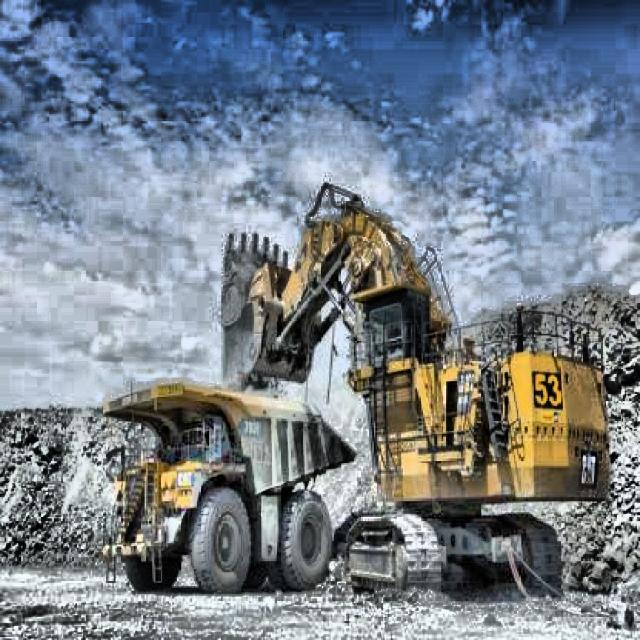dump_truck: (101, 383, 358, 595)
excavator: (214, 191, 615, 605)
